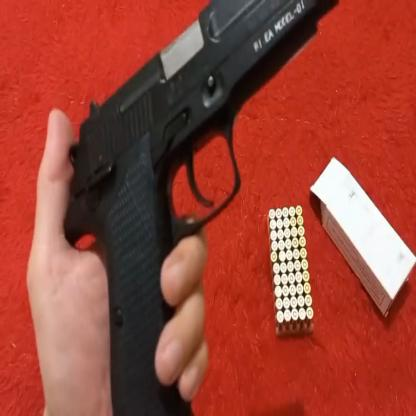handgun: (46, 0, 342, 416)
